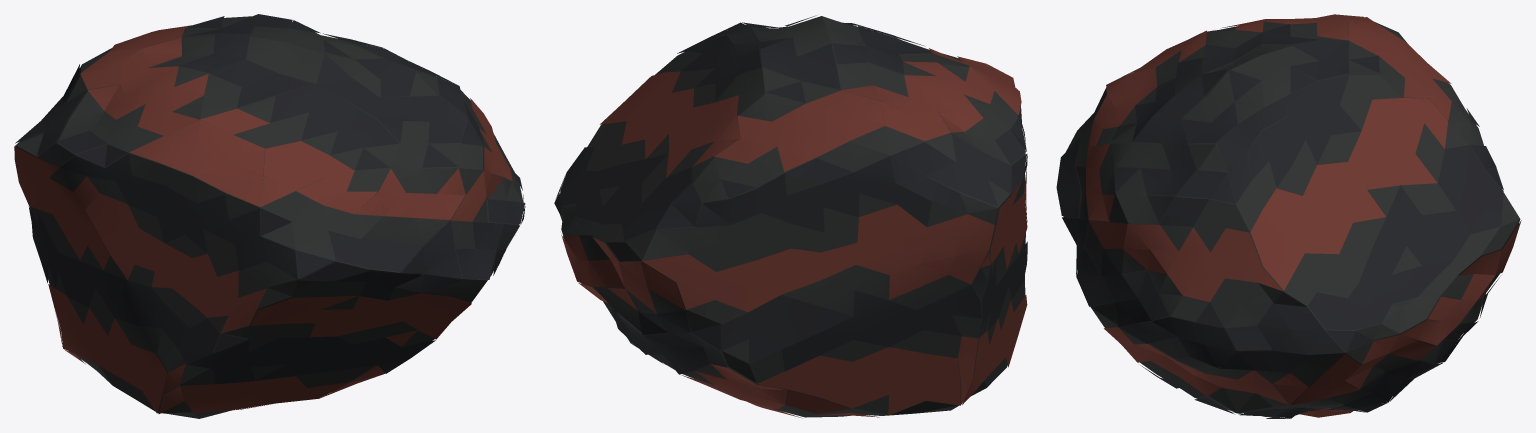
The model's file is ore_iron.glb.
3 renders of one model, left to right at view 1: azimuth 30°, elevation 25°; view 2: azimuth 150°, elevation 25°; view 3: azimuth 270°, elevation 25°, orthographic. The views are drawn at different scales.
Visible parts, largest first — view 1: iron_hematite_bands, iron_magnetite_bands, iron_matrix; view 2: iron_hematite_bands, iron_matrix, iron_magnetite_bands; view 3: iron_magnetite_bands, iron_matrix, iron_hematite_bands.
Part boxes in pixels (<box>): iron_hematite_bands: <box>14,25,512,413</box>; iron_magnetite_bands: <box>15,14,525,384</box>; iron_matrix: <box>15,16,523,418</box>; iron_hematite_bands: <box>561,48,1027,418</box>; iron_matrix: <box>559,16,1025,417</box>; iron_magnetite_bands: <box>554,15,1027,374</box>; iron_magnetite_bands: <box>1056,24,1503,418</box>; iron_matrix: <box>1063,21,1520,416</box>; iron_hematite_bands: <box>1086,14,1521,417</box>.
Size of the model in its own units: 1.06 by 0.78 by 0.9746.
